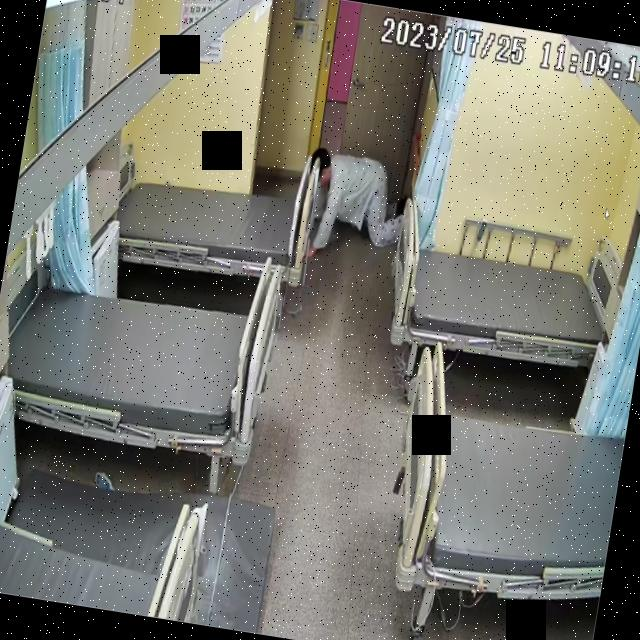bed: (380, 340, 636, 616), (0, 270, 278, 462), (379, 224, 629, 378), (113, 160, 314, 286)
fall: (294, 146, 410, 266)
patient: (298, 145, 412, 264)
